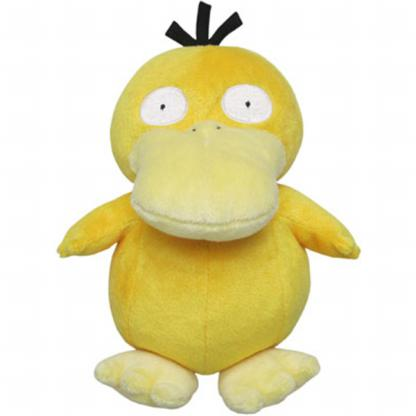Psyduck: (55, 1, 373, 416)
